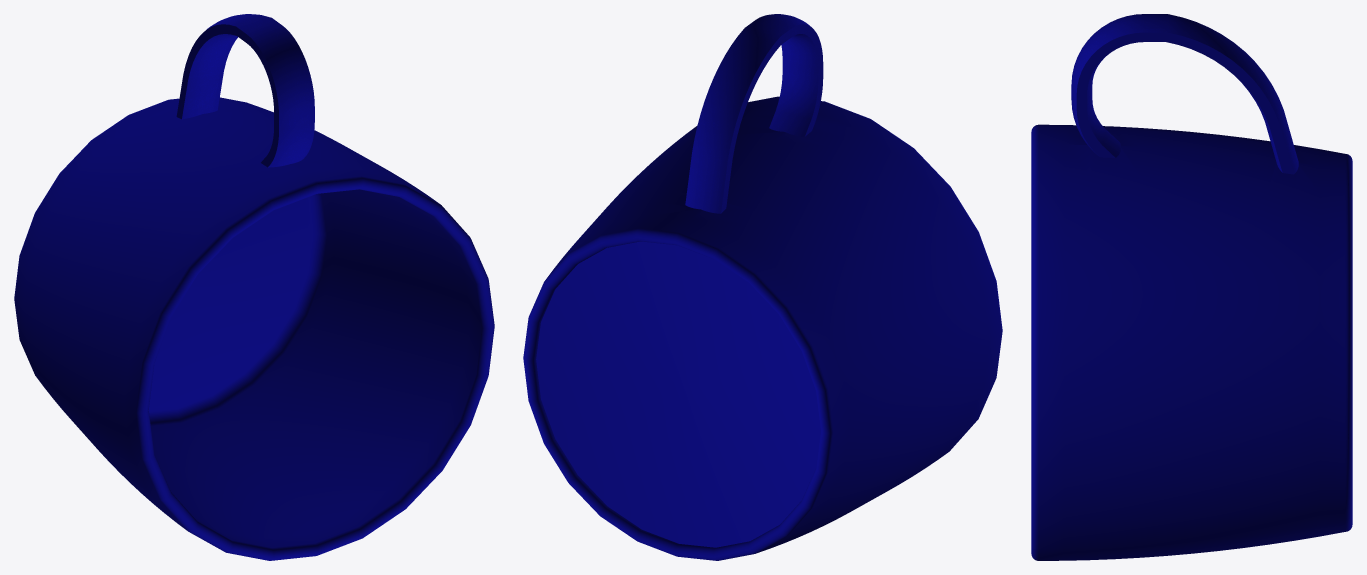
File: model_align.obj
3 views of the same model, side by side, from view 1: azimuth 30°, elevation 25°; view 2: azimuth 150°, elevation 25°; view 3: azimuth 270°, elevation 25° (orthographic). The views are drawn at different scales.
Parts seen in each view (by area): view 1: mesh1_mesh1-geometry, mesh3_mesh3-geometry; view 2: mesh1_mesh1-geometry, mesh3_mesh3-geometry; view 3: mesh1_mesh1-geometry, mesh3_mesh3-geometry.
Boxes of the visible parts, <box> form: mesh1_mesh1-geometry: <box>14,97,494,560</box>; mesh3_mesh3-geometry: <box>176,14,314,167</box>; mesh1_mesh1-geometry: <box>523,96,1002,560</box>; mesh3_mesh3-geometry: <box>685,14,823,213</box>; mesh1_mesh1-geometry: <box>1031,124,1352,560</box>; mesh3_mesh3-geometry: <box>1071,14,1298,174</box>.
Bounding box in the file's own units: 0.0953 × 0.1255 × 0.0699.
